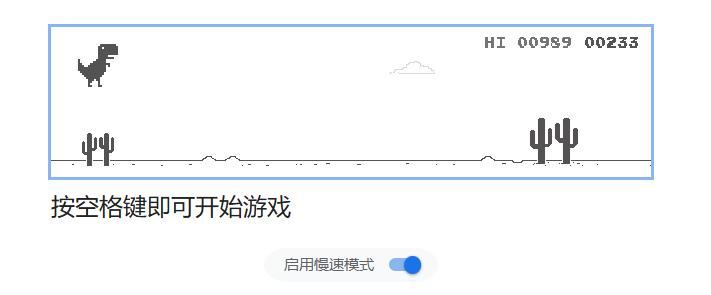cactus: (528, 115, 582, 168), (82, 131, 116, 168)
dino: (73, 43, 120, 88)
